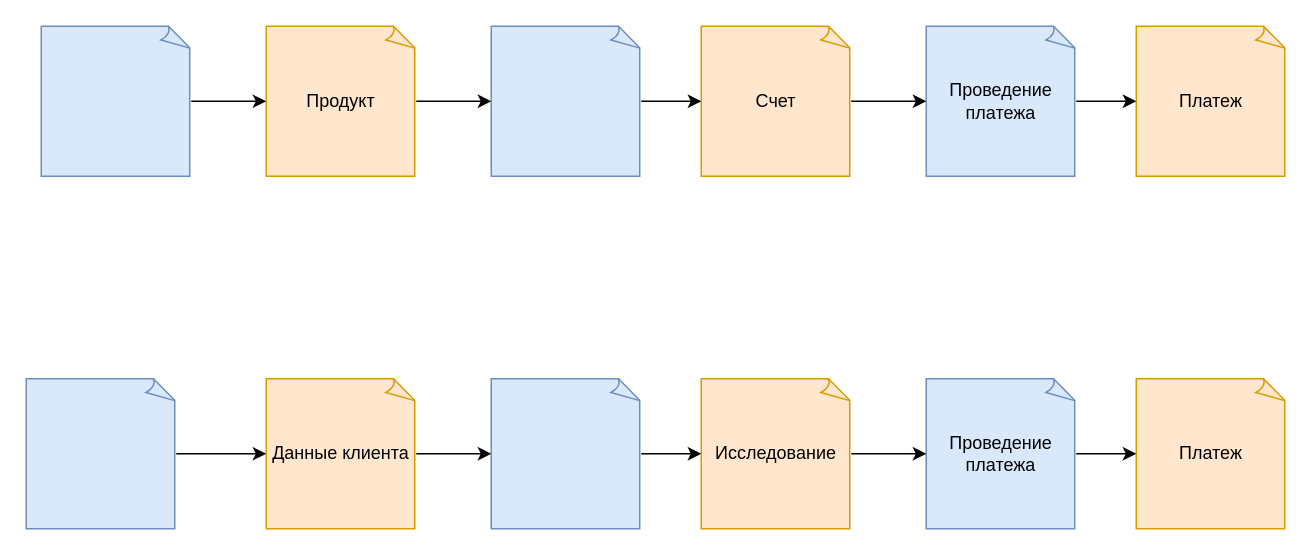
Image size: 1313x555. Some labels were removed from this diagram. The shapes that lost their labels are listed below. From the top down, each one's centre as x and y in pixels, then its label:
At point (115, 100): "Создание кредитного договора".
At point (565, 100): "Создание кредитного счета".
At point (100, 453): "Регистрация нового пациента".
At point (565, 453): "Пройдено исследование".
